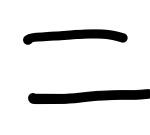eqv: (24, 29, 150, 104)
